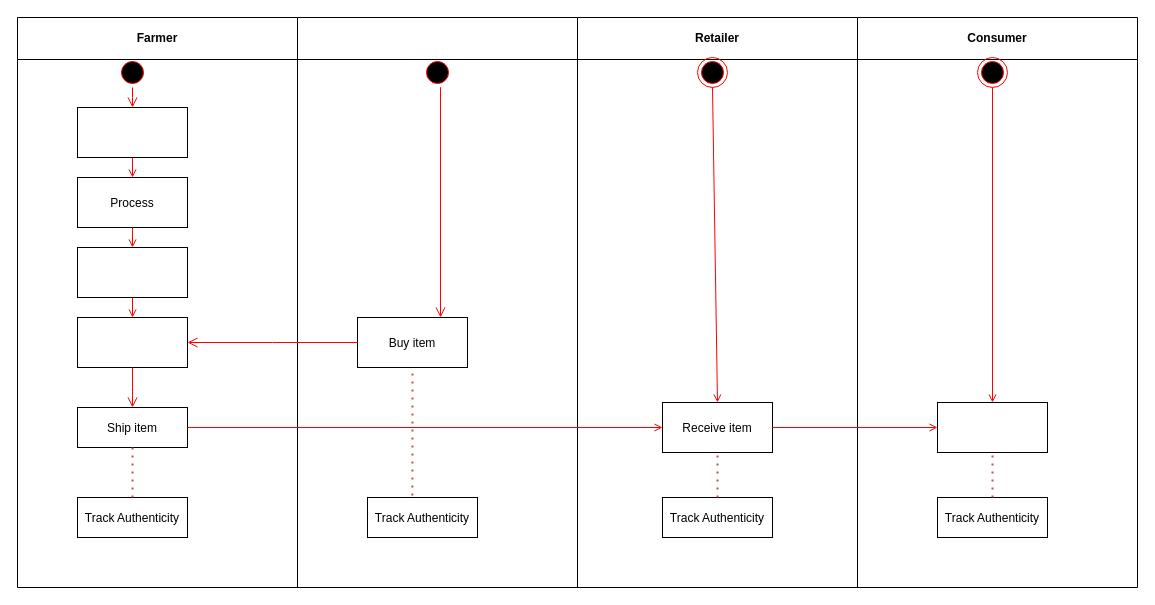
This 1155x605 diagram has some shape labels left out. Here are the shapes that lost their labels. From the top down, the box of each, then its label:
(76, 106, 188, 158): Harvest
(76, 246, 188, 298): Pack
(296, 16, 578, 588): Distributor
(76, 316, 188, 368): Put For Sale
(936, 402, 1048, 452): purchase item
